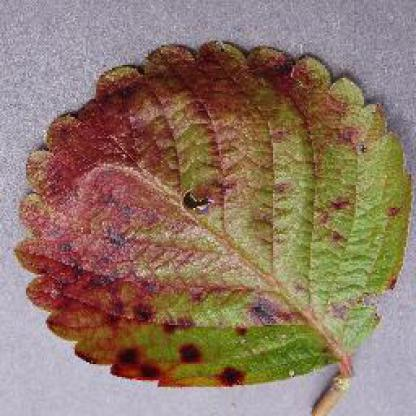leaf scorch: (11, 36, 414, 414)
